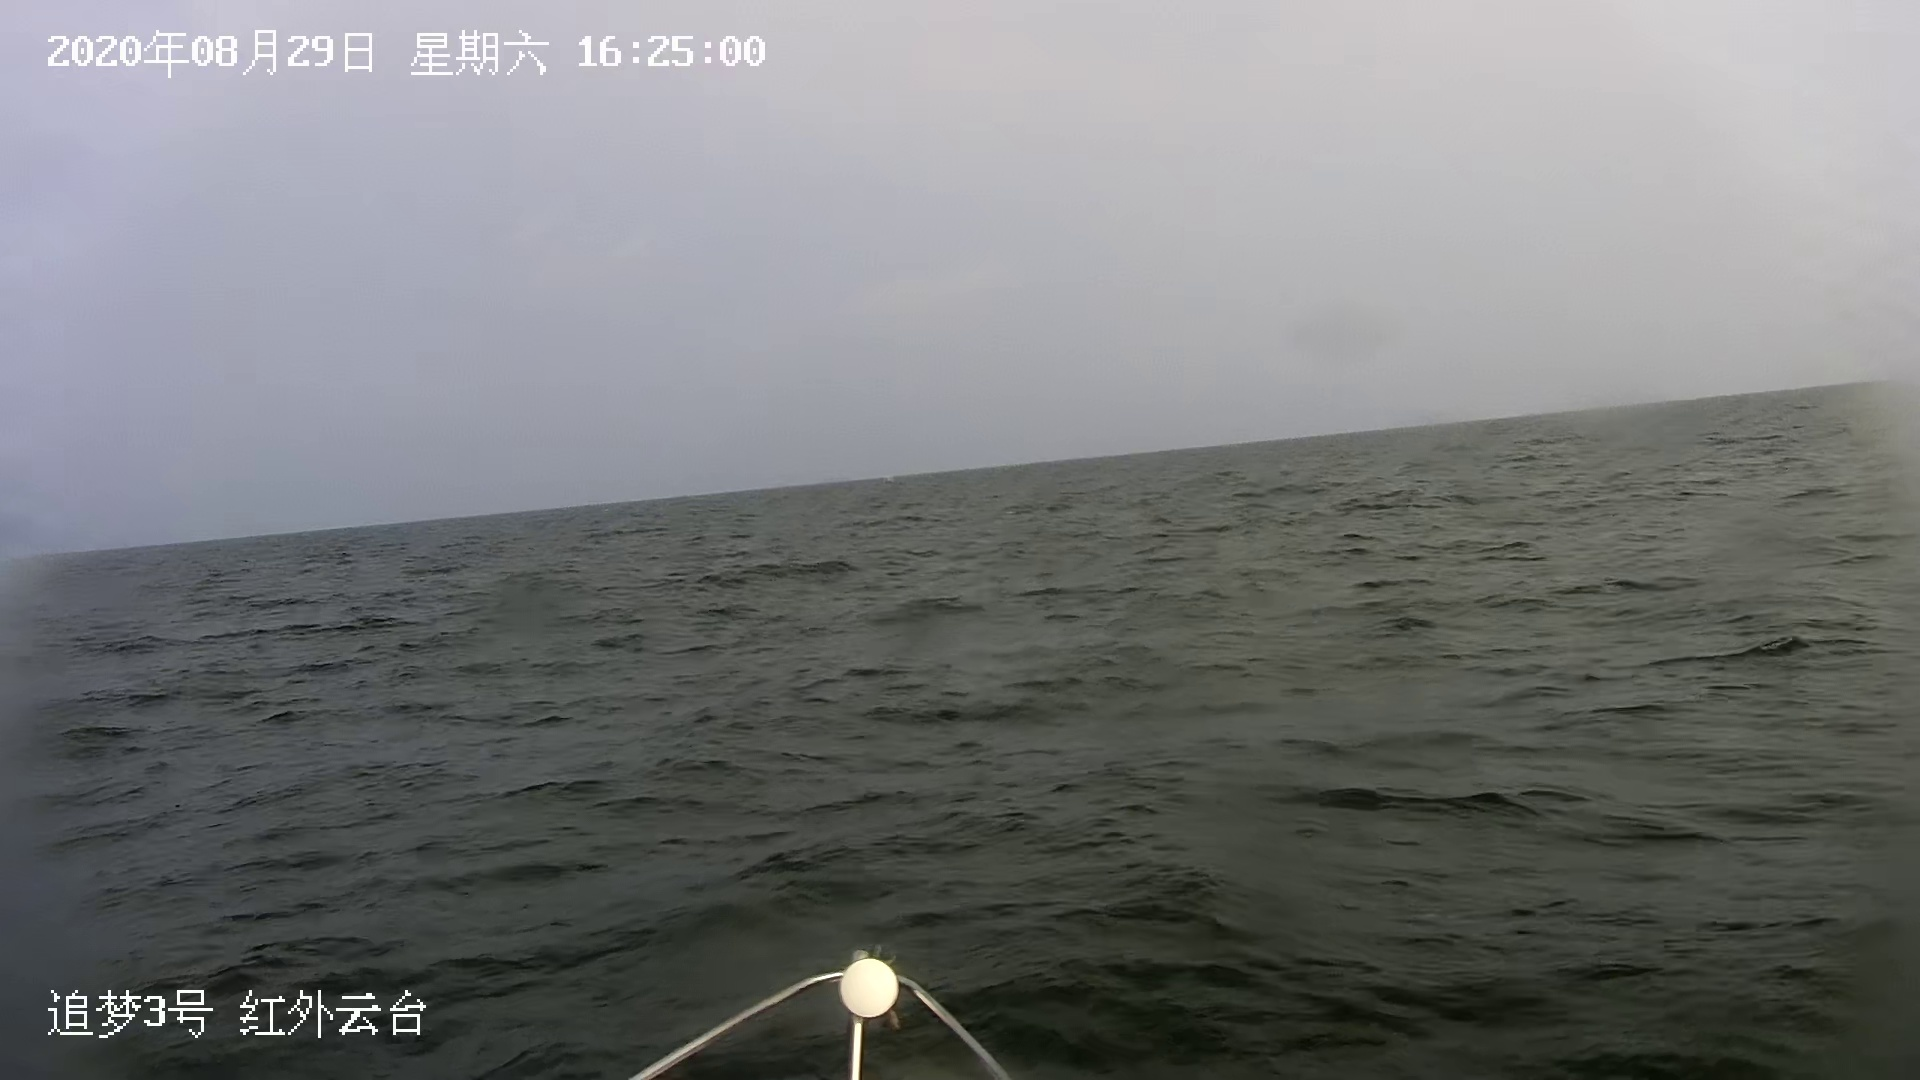this: (630, 957, 1011, 1079)
